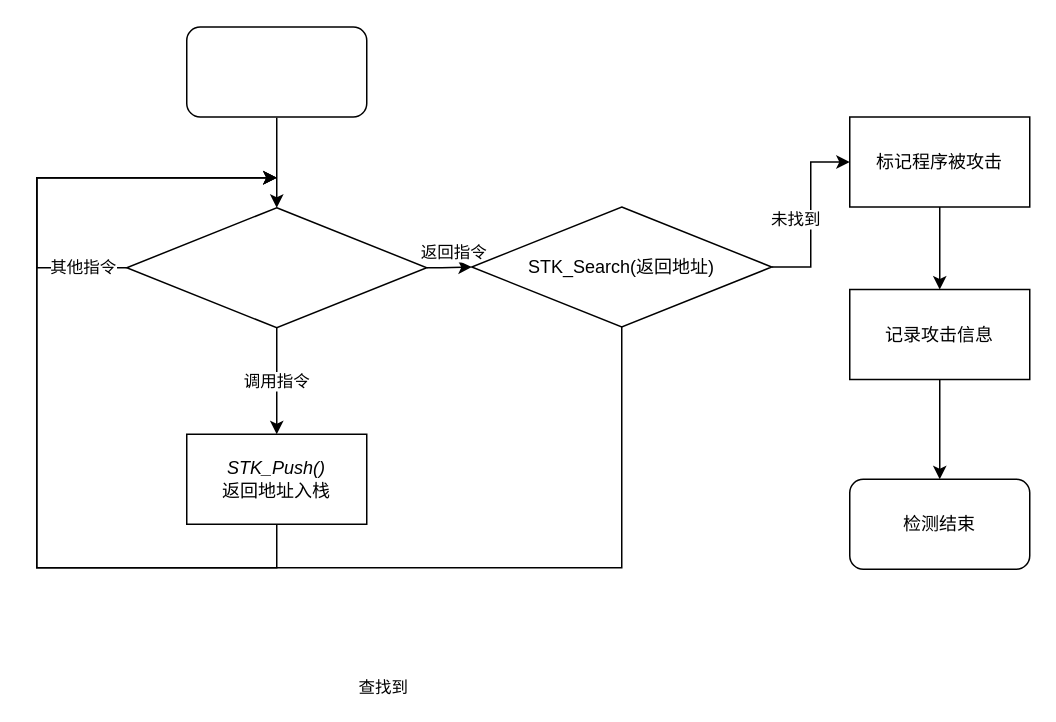
The diagram is 1056 pixels wide and 722 high, and some of its shapes have lost their labels. The shapes that lost their labels are listed below. From the top down, each one's centre as x and y in pixels, then its label:
At (276,71): "检测开始".
At (276,267): "INS_IsRet/ INS_IsCall ? 判断指令".
